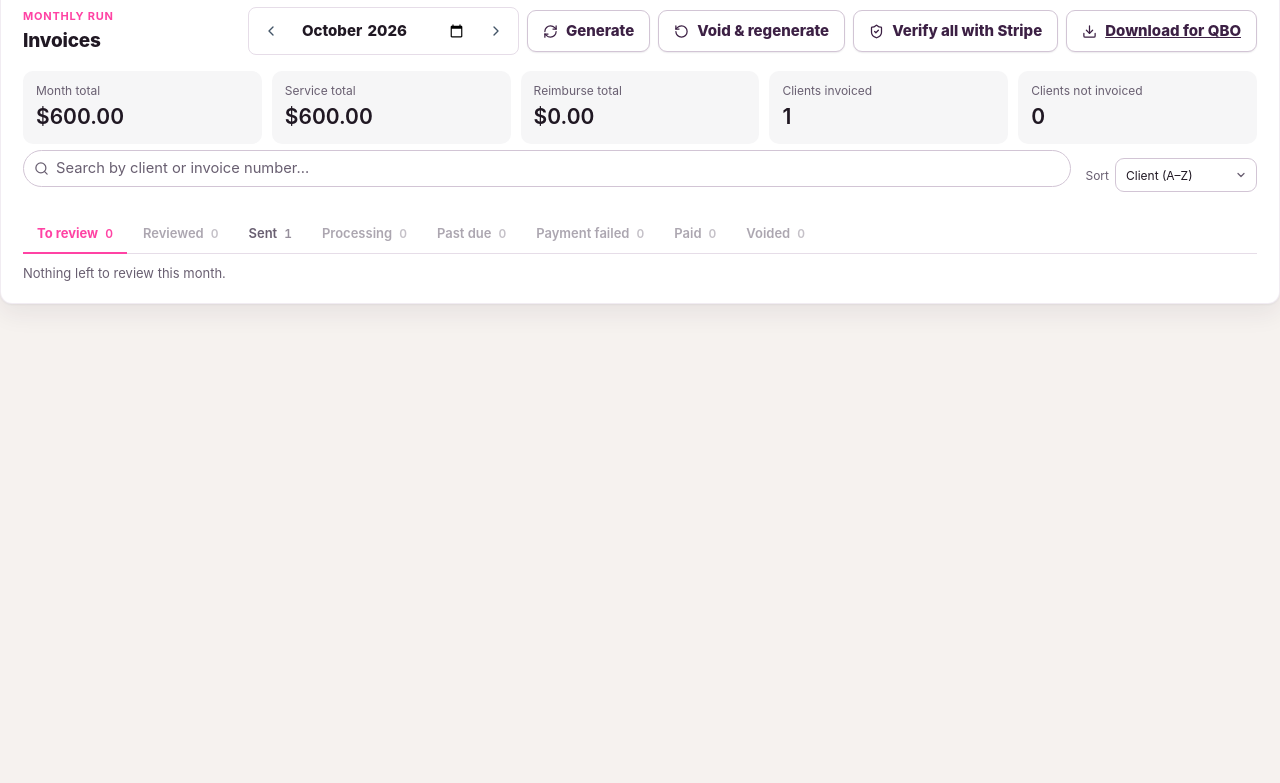
Test: the Payment link button › is offered on a sent invoice, and hands back the link
Click the tab "Sent 1": (270, 235) [234,215,306,254]
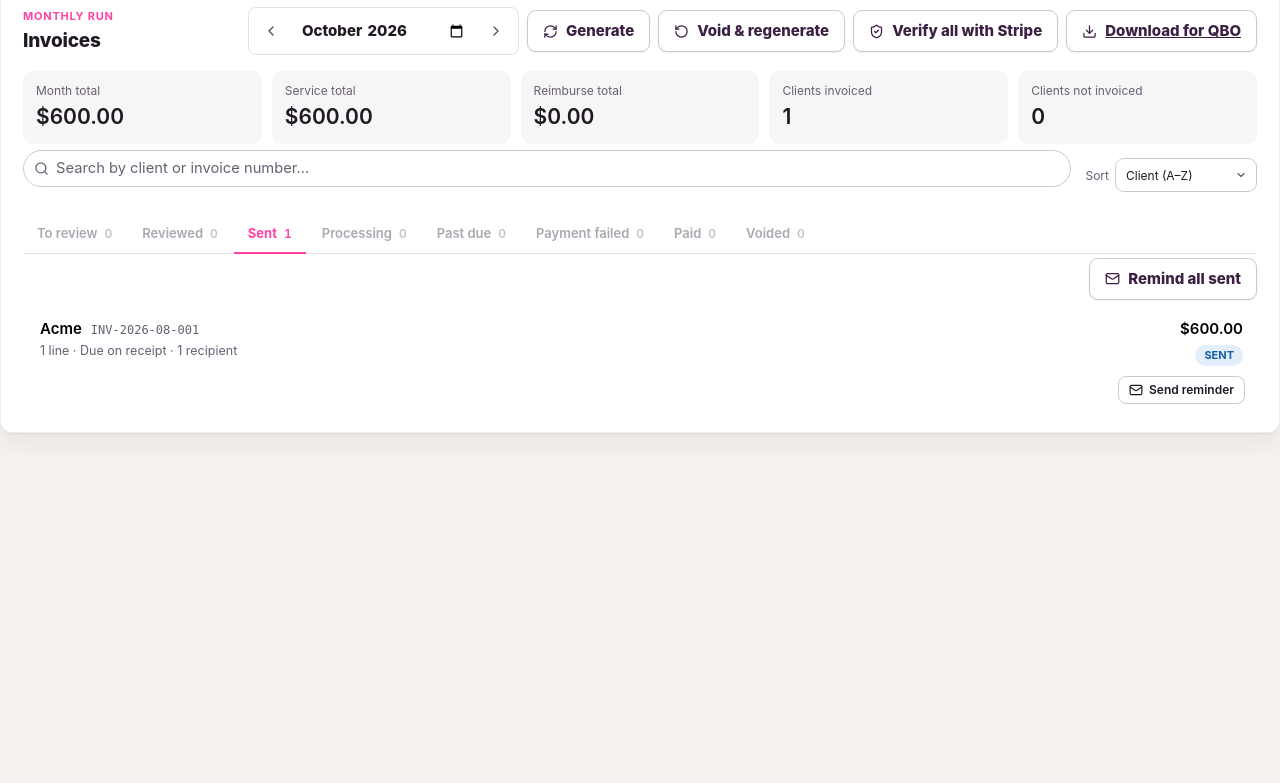
Click the text "INV-2026-08-001": (145, 330) [91,322,199,339]
(page scrolled)
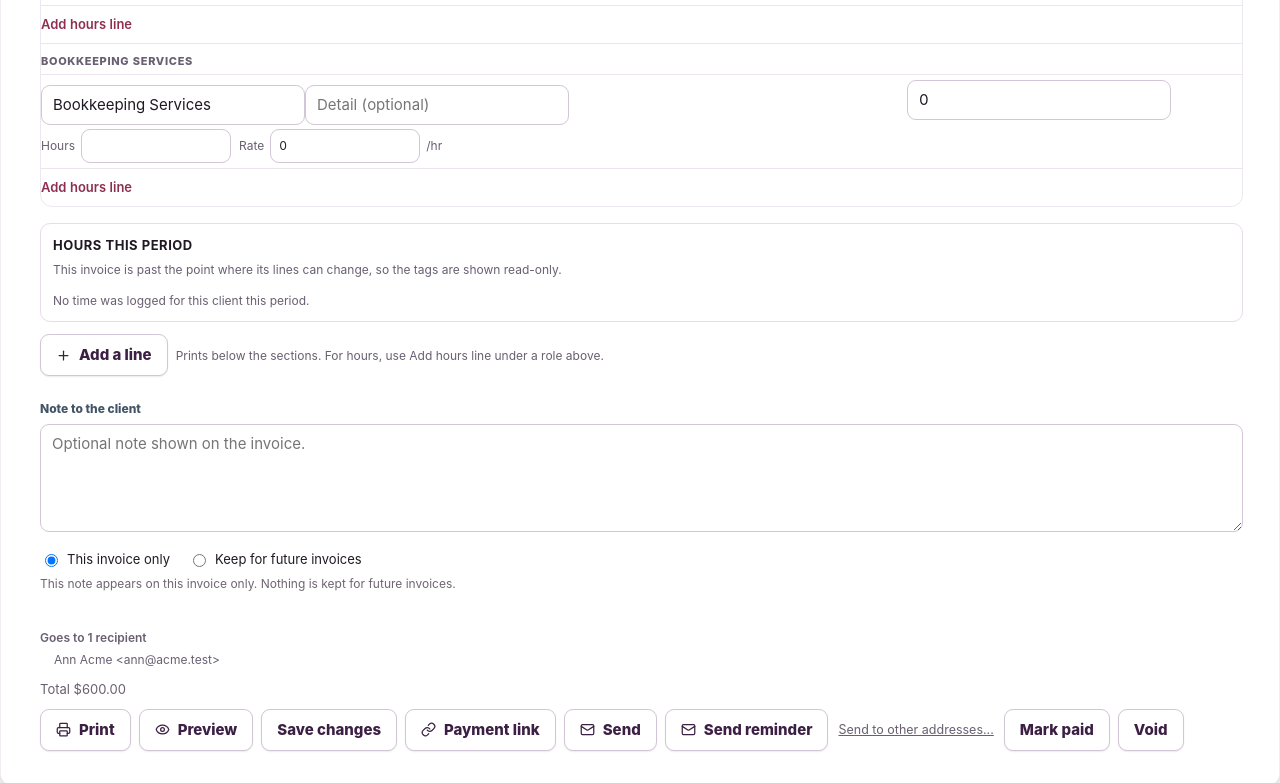
expect the button "Print" is shown: met, box [40,709,131,751]
expect the button "Payment link" is enabled: met
Click the button "Payment link": (480, 730) [405,709,556,751]
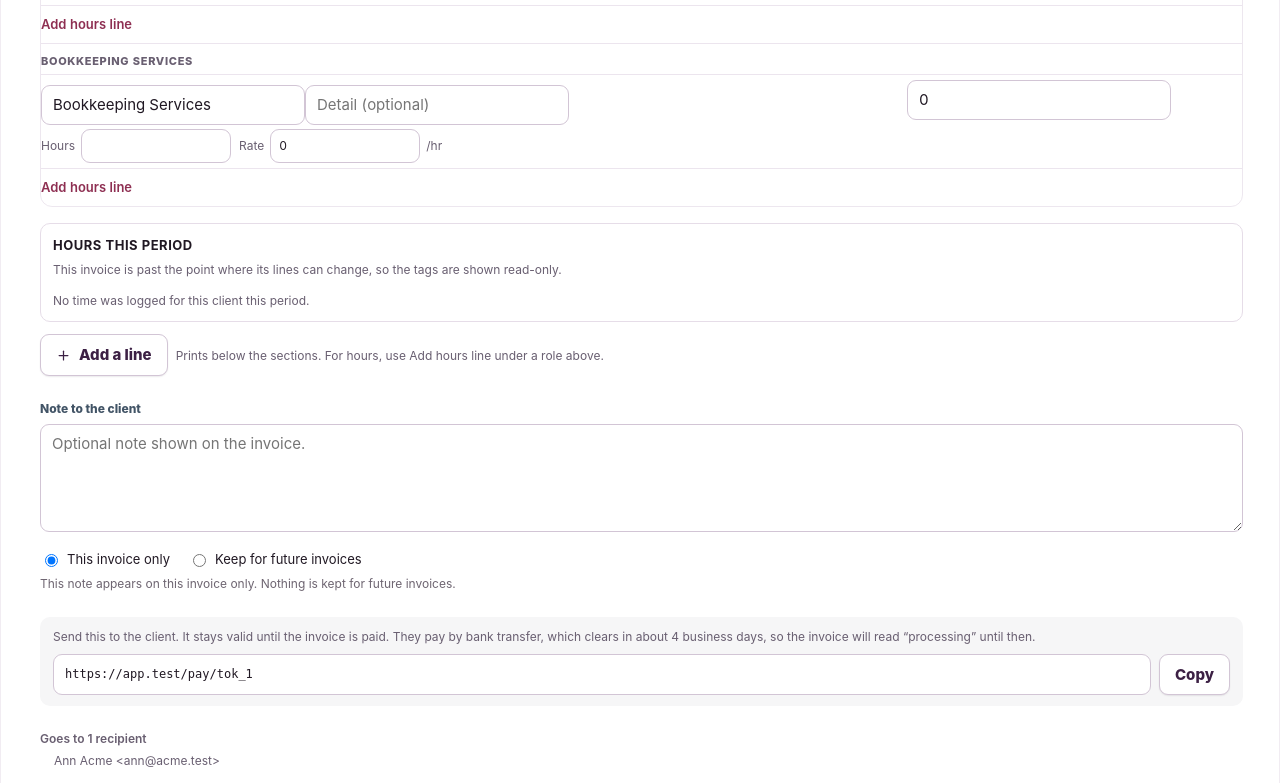
expect the field showing "https://app.test/pay/tok_1" is shown: met, box [53,654,1151,695]
